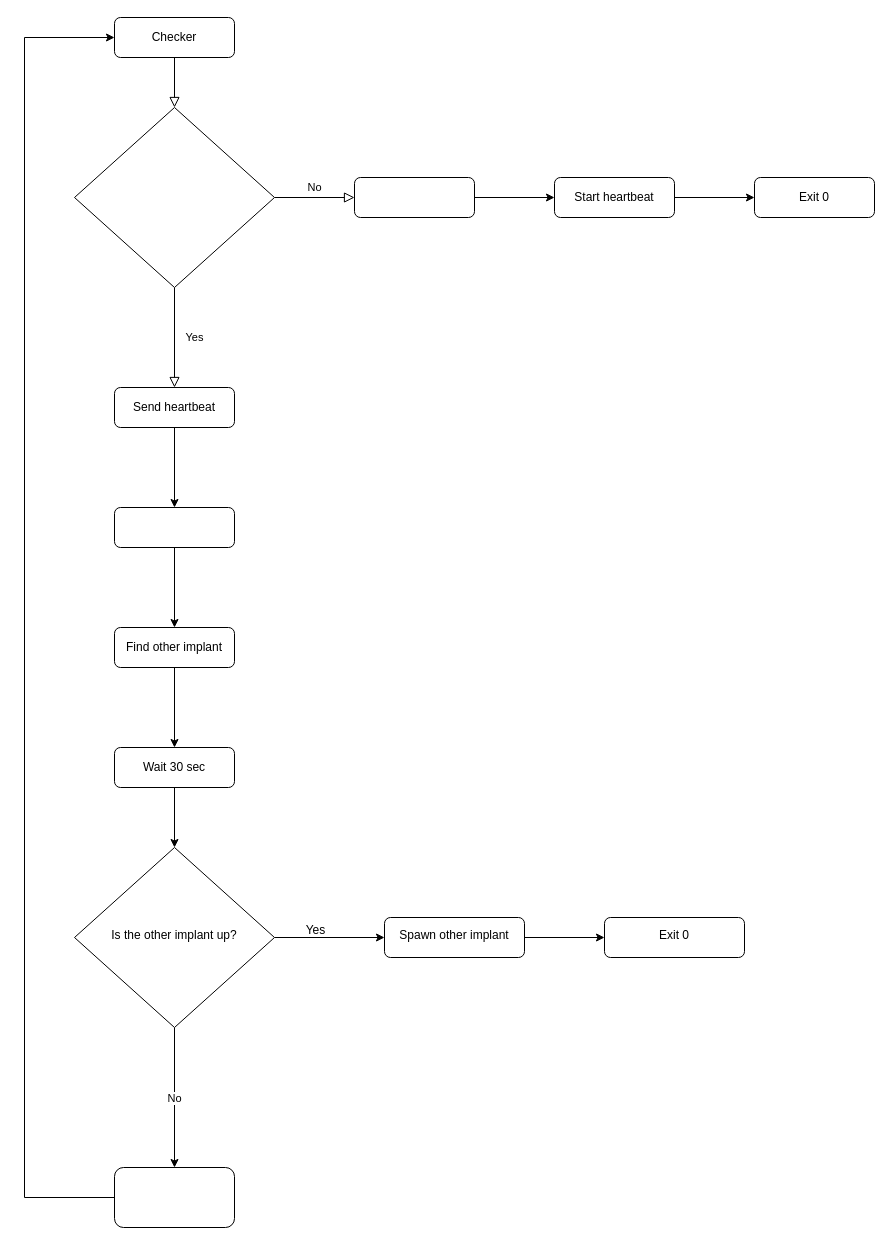
Some shapes in this 892 by 1245 pixel diagram are drawn without their labels. The box of each missing label's shape, as (x1, y1, x2, y2) in pixels:
Is there another implant on the host besides this one?: (74, 106, 274, 288)
Replicate: (354, 176, 474, 218)
Set imp array to 0: (114, 1166, 234, 1228)
Test revshell: (114, 506, 234, 548)
